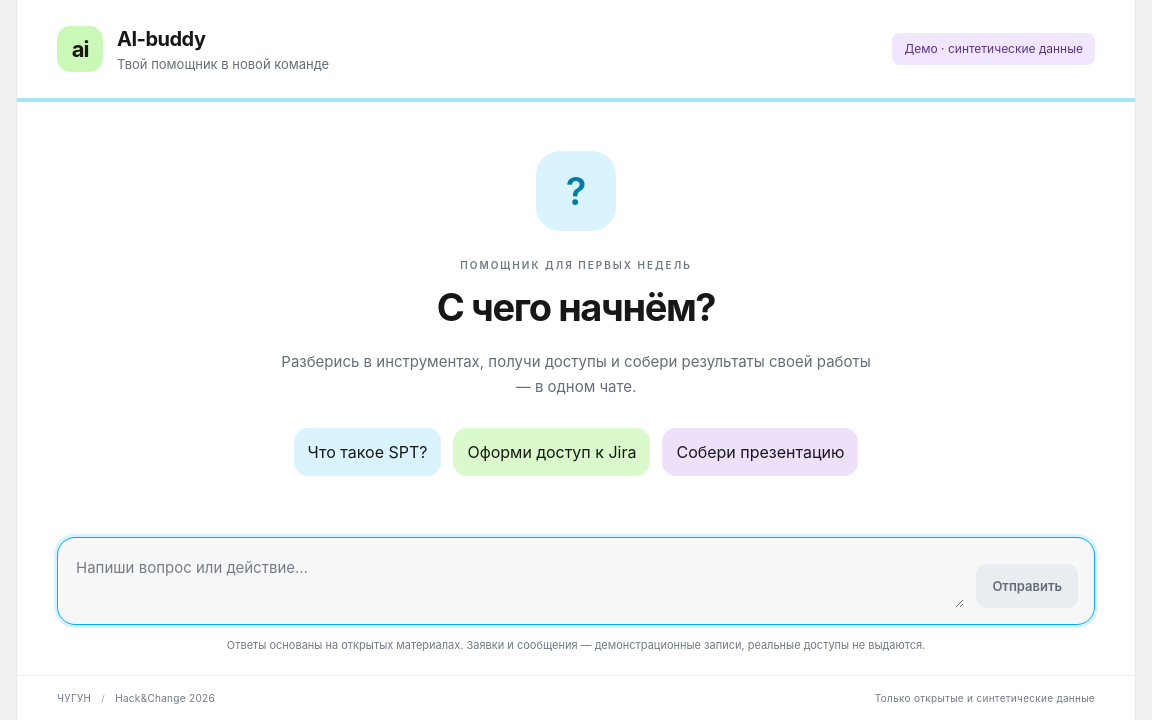
Scenario: Server-owned chat › renders a PDF download from the server response and keeps the same-origin URL
The image size is (1152, 720).
What coordinates should you click on to do the following:
click the button "Собери презентацию"
I would click on:
 (760, 452)
Its box is [662, 428, 858, 476].
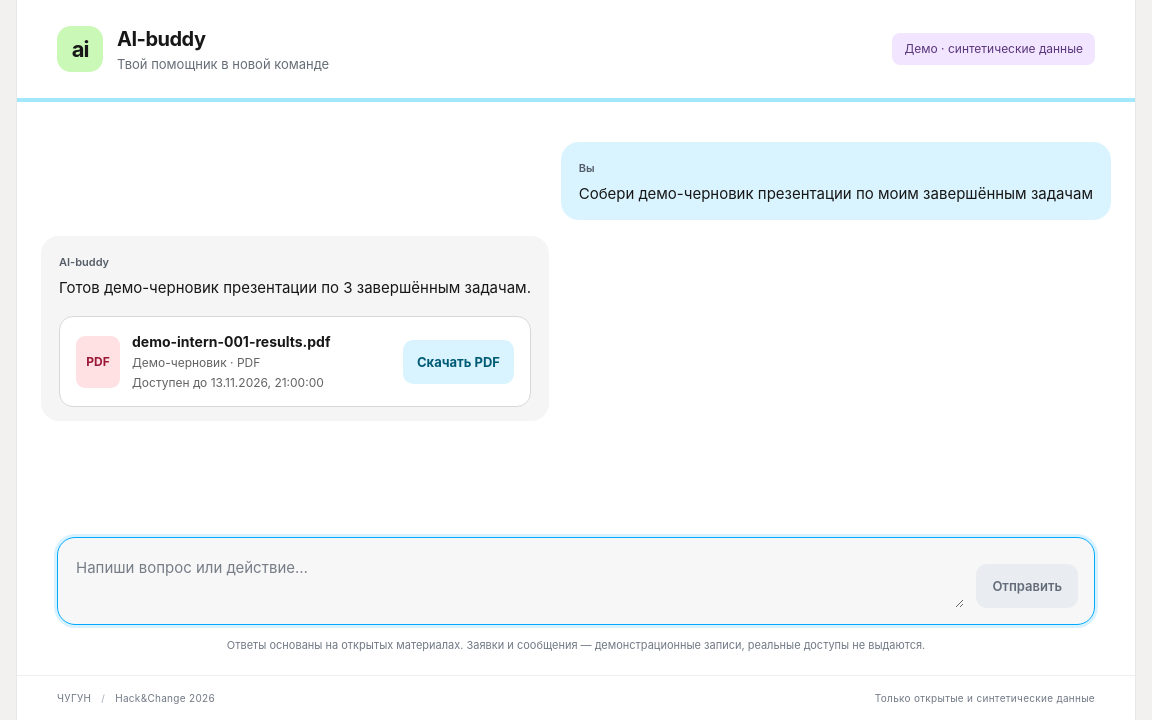
Expected: the button "Скачать PDF" is shown, [403, 340, 514, 384]
Expected: the text "Готов демо-черновик презентации по 3 завершённым задачам." is shown, [59, 276, 531, 300]
Expected: the text "demo-intern-001-results.pdf" is shown, [132, 333, 330, 350]
